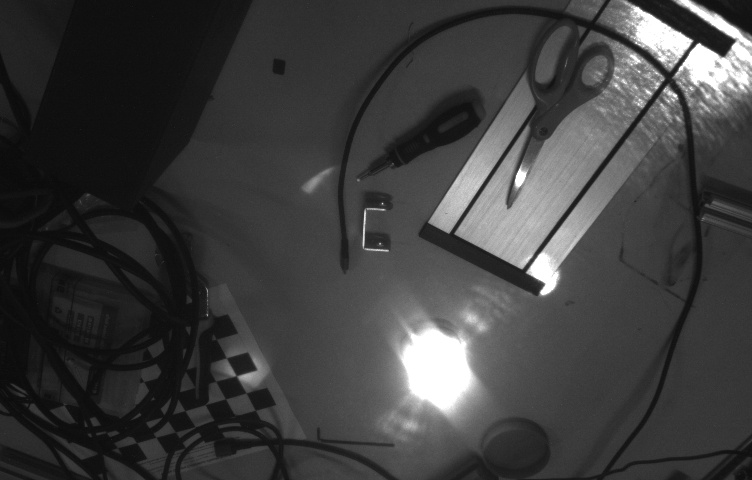Object toy football - Material foam - Color blue - Pdfname VT1ffZoLOnKv: (386, 319, 478, 377)
